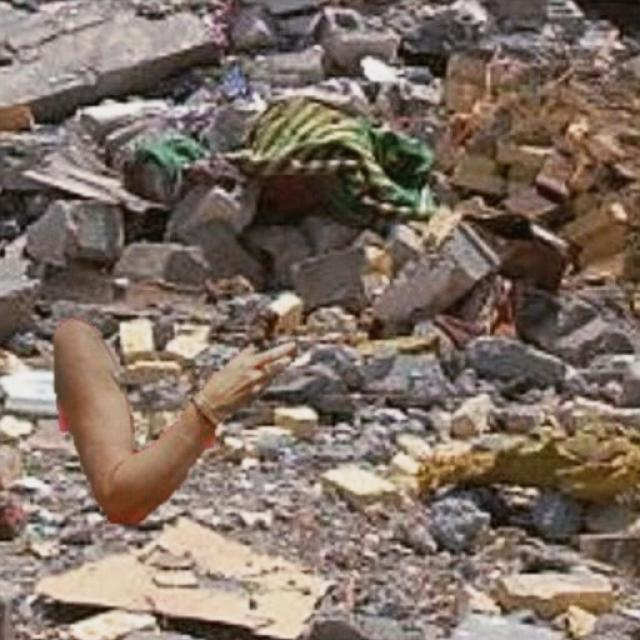Person in Rubble: (54, 316, 296, 522)
